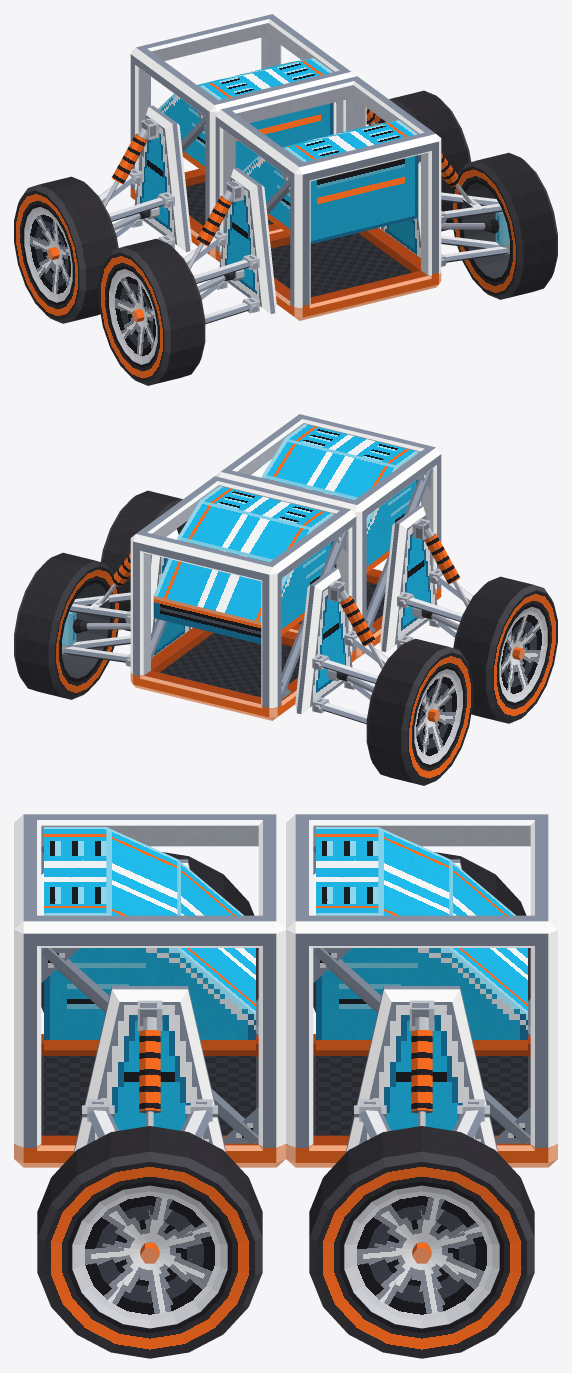
The model's file is aero_a_rig.glb.
3 renders of one model, top to bottom at view 1: azimuth 30°, elevation 25°; view 2: azimuth 150°, elevation 25°; view 3: azimuth 270°, elevation 25°, orthographic. The views are drawn at different scales.
Visible parts, largest first — view 1: aero_a_block_0_aero_a_block_body, aero_a_block_1_aero_a_block_body, aero_a_wheel_2_aero_a_wheel_tyre, aero_a_wheel_3_aero_a_wheel_tyre, aero_a_wheel_4_aero_a_wheel_tyre, aero_a_wheel_2_aero_a_wheel_mount, aero_a_wheel_3_aero_a_wheel_mount, aero_a_wheel_5_aero_a_wheel_tyre, aero_a_wheel_4_aero_a_wheel_arm_lo, aero_a_wheel_4_aero_a_wheel_mount, aero_a_wheel_4_aero_a_wheel_arm_up, aero_a_wheel_2_aero_a_wheel_arm_up (+5 smaller); view 2: aero_a_block_1_aero_a_block_body, aero_a_block_0_aero_a_block_body, aero_a_wheel_3_aero_a_wheel_tyre, aero_a_wheel_2_aero_a_wheel_tyre, aero_a_wheel_5_aero_a_wheel_tyre, aero_a_wheel_3_aero_a_wheel_mount, aero_a_wheel_2_aero_a_wheel_mount, aero_a_wheel_4_aero_a_wheel_tyre, aero_a_wheel_5_aero_a_wheel_mount, aero_a_wheel_5_aero_a_wheel_arm_lo, aero_a_wheel_5_aero_a_wheel_arm_up, aero_a_wheel_3_aero_a_wheel_arm_up (+5 smaller); view 3: aero_a_block_0_aero_a_block_body, aero_a_block_1_aero_a_block_body, aero_a_wheel_4_aero_a_wheel_tyre, aero_a_wheel_5_aero_a_wheel_tyre, aero_a_wheel_4_aero_a_wheel_mount, aero_a_wheel_5_aero_a_wheel_mount, aero_a_wheel_4_aero_a_wheel_dmp_body, aero_a_wheel_5_aero_a_wheel_dmp_body, aero_a_wheel_2_aero_a_wheel_tyre, aero_a_wheel_3_aero_a_wheel_tyre, aero_a_wheel_4_aero_a_wheel_arm_up, aero_a_wheel_5_aero_a_wheel_arm_up.
Part boxes in pixels (x1=…): aero_a_block_0_aero_a_block_body: x1=215, y1=76, x2=441, y2=320; aero_a_block_1_aero_a_block_body: x1=130, y1=14, x2=355, y2=258; aero_a_wheel_2_aero_a_wheel_tyre: x1=98, y1=238, x2=205, y2=385; aero_a_wheel_3_aero_a_wheel_tyre: x1=14, y1=176, x2=118, y2=323; aero_a_wheel_4_aero_a_wheel_tyre: x1=451, y1=152, x2=557, y2=299; aero_a_wheel_2_aero_a_wheel_mount: x1=211, y1=167, x2=276, y2=313; aero_a_wheel_3_aero_a_wheel_mount: x1=126, y1=105, x2=191, y2=251; aero_a_wheel_5_aero_a_wheel_tyre: x1=368, y1=90, x2=471, y2=231; aero_a_wheel_4_aero_a_wheel_arm_lo: x1=441, y1=235, x2=509, y2=266; aero_a_wheel_4_aero_a_wheel_mount: x1=381, y1=161, x2=445, y2=266; aero_a_wheel_4_aero_a_wheel_arm_up: x1=441, y1=192, x2=502, y2=223; aero_a_wheel_2_aero_a_wheel_arm_up: x1=184, y1=237, x2=258, y2=283; aero_a_block_1_aero_a_block_body: x1=130, y1=476, x2=356, y2=720; aero_a_block_0_aero_a_block_body: x1=216, y1=414, x2=441, y2=658; aero_a_wheel_3_aero_a_wheel_tyre: x1=366, y1=638, x2=473, y2=785; aero_a_wheel_2_aero_a_wheel_tyre: x1=453, y1=576, x2=557, y2=723; aero_a_wheel_5_aero_a_wheel_tyre: x1=14, y1=552, x2=120, y2=699; aero_a_wheel_3_aero_a_wheel_mount: x1=295, y1=567, x2=360, y2=713; aero_a_wheel_2_aero_a_wheel_mount: x1=380, y1=505, x2=445, y2=651; aero_a_wheel_4_aero_a_wheel_tyre: x1=100, y1=490, x2=187, y2=631; aero_a_wheel_5_aero_a_wheel_mount: x1=126, y1=529, x2=190, y2=666; aero_a_wheel_5_aero_a_wheel_arm_lo: x1=62, y1=635, x2=130, y2=666; aero_a_wheel_5_aero_a_wheel_arm_up: x1=69, y1=592, x2=130, y2=623; aero_a_wheel_3_aero_a_wheel_arm_up: x1=313, y1=637, x2=387, y2=683; aero_a_block_0_aero_a_block_body: x1=14, y1=814, x2=285, y2=1167; aero_a_block_1_aero_a_block_body: x1=286, y1=814, x2=557, y2=1167; aero_a_wheel_4_aero_a_wheel_tyre: x1=37, y1=1126, x2=262, y2=1358; aero_a_wheel_5_aero_a_wheel_tyre: x1=309, y1=1126, x2=534, y2=1358; aero_a_wheel_4_aero_a_wheel_mount: x1=73, y1=986, x2=226, y2=1152; aero_a_wheel_5_aero_a_wheel_mount: x1=345, y1=986, x2=498, y2=1152; aero_a_wheel_4_aero_a_wheel_dmp_body: x1=139, y1=1017, x2=160, y2=1113; aero_a_wheel_5_aero_a_wheel_dmp_body: x1=411, y1=1017, x2=432, y2=1113; aero_a_wheel_2_aero_a_wheel_tyre: x1=41, y1=852, x2=258, y2=1012; aero_a_wheel_3_aero_a_wheel_tyre: x1=313, y1=852, x2=530, y2=1012; aero_a_wheel_4_aero_a_wheel_arm_up: x1=82, y1=1105, x2=217, y2=1138; aero_a_wheel_5_aero_a_wheel_arm_up: x1=354, y1=1105, x2=489, y2=1138.
Bounding box in the file's own units: 2.68 × 1.38 × 2.
Materials: 1 (1 with a texture image).
